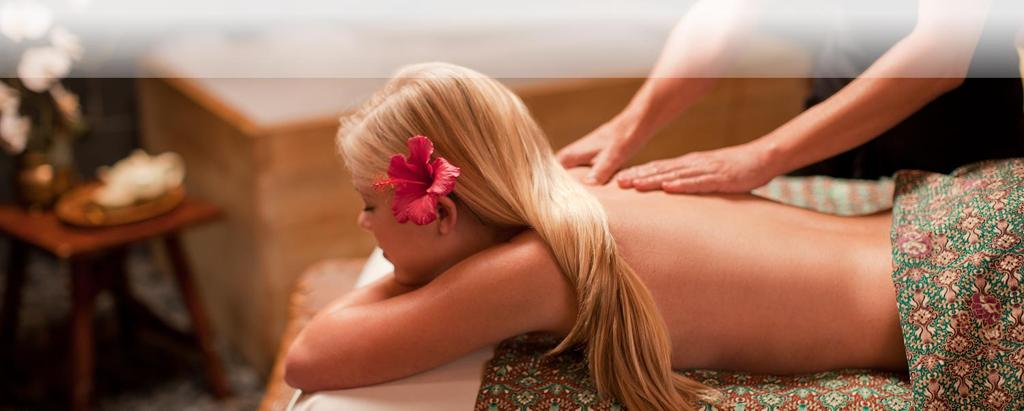face: (356, 150, 422, 288)
